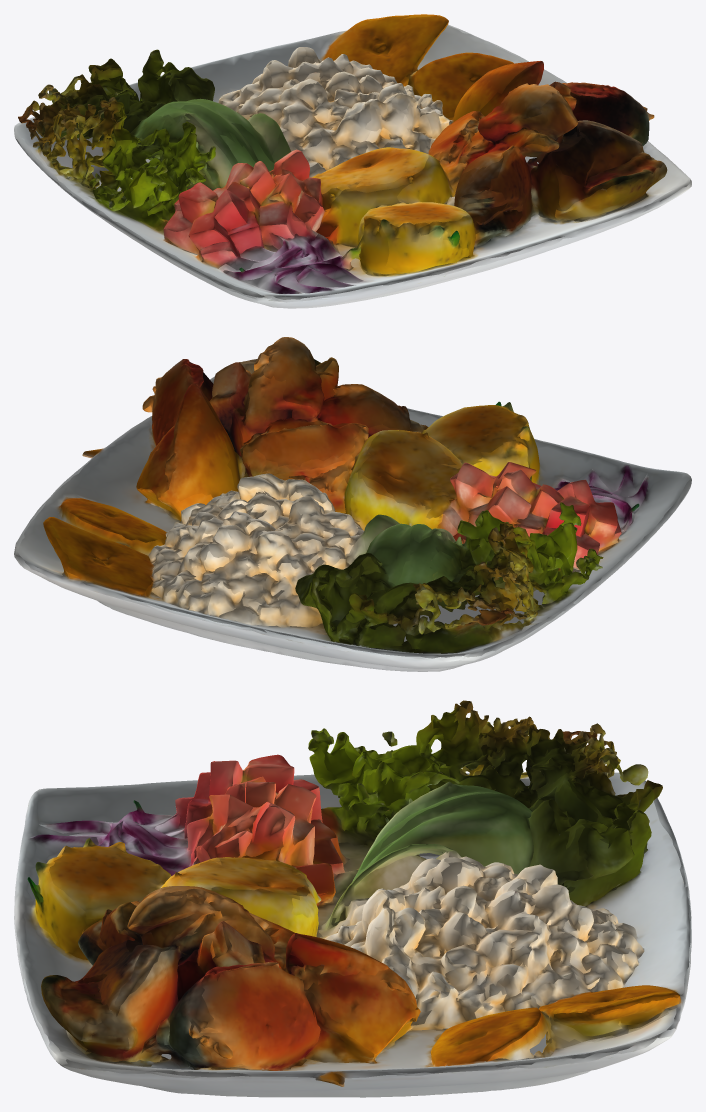
File: fritada_v1.glb
The picture shows the model from 3 angles, top to bottom: view 1: azimuth 30°, elevation 25°; view 2: azimuth 150°, elevation 25°; view 3: azimuth 270°, elevation 25°; orthographic projection. The views are drawn at different scales.
Visible parts, largest first — view 1: geometry_0; view 2: geometry_0; view 3: geometry_0.
Part boxes in pixels (left/top/right/bottom): geometry_0: left=14, top=14, right=691, bottom=308; geometry_0: left=14, top=337, right=691, bottom=671; geometry_0: left=14, top=700, right=691, bottom=1097.
Bounding box in the file's own units: 0.2677 × 0.0678 × 0.2448.
1 material, 1 textured.
